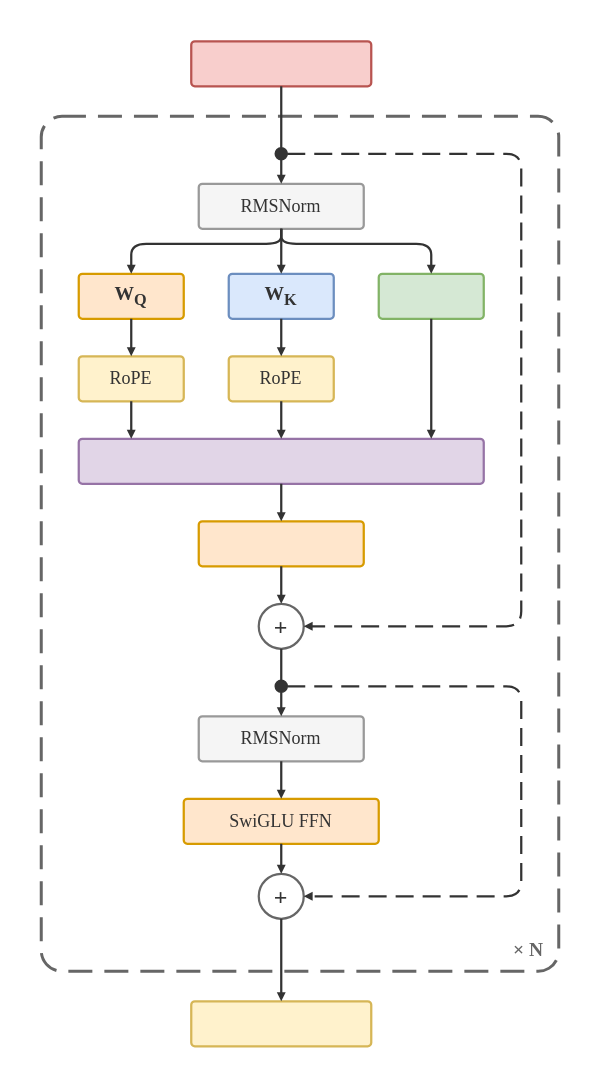
Some shapes in this 599 by 1086 pixel diagram are drawn without their labels. The box of each missing label's shape, as (x1, y1, x2, y2) in pixels:
Grouped-Query Attention (causal): (77, 437, 484, 484)
Input h l-1: (189, 39, 372, 87)
Linear W O: (197, 519, 364, 567)
Output h l: (189, 999, 372, 1047)
W V: (377, 272, 484, 319)
